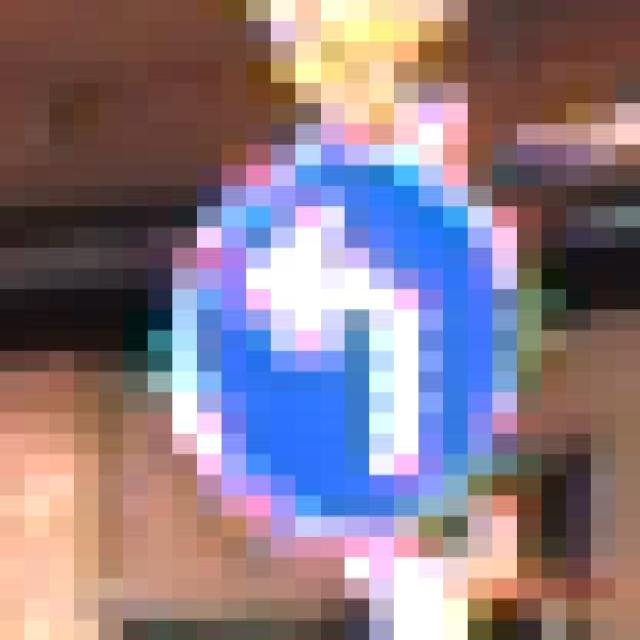Turn left ahead: (148, 103, 542, 557)
